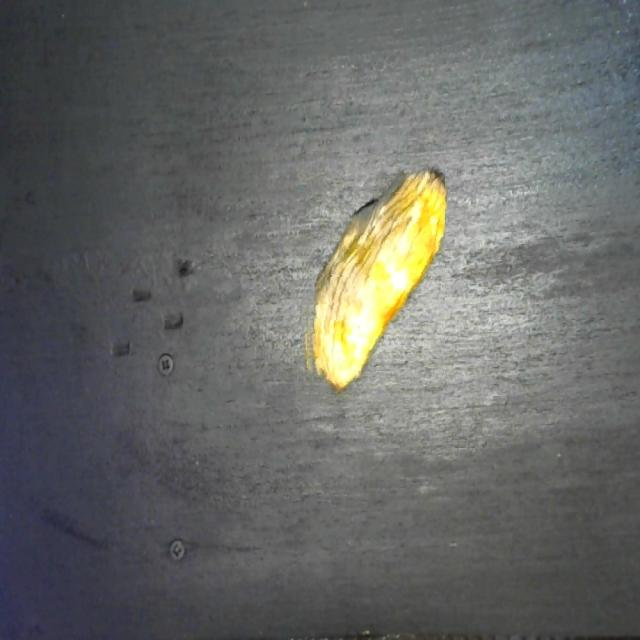biodegradable: (300, 153, 445, 403)
